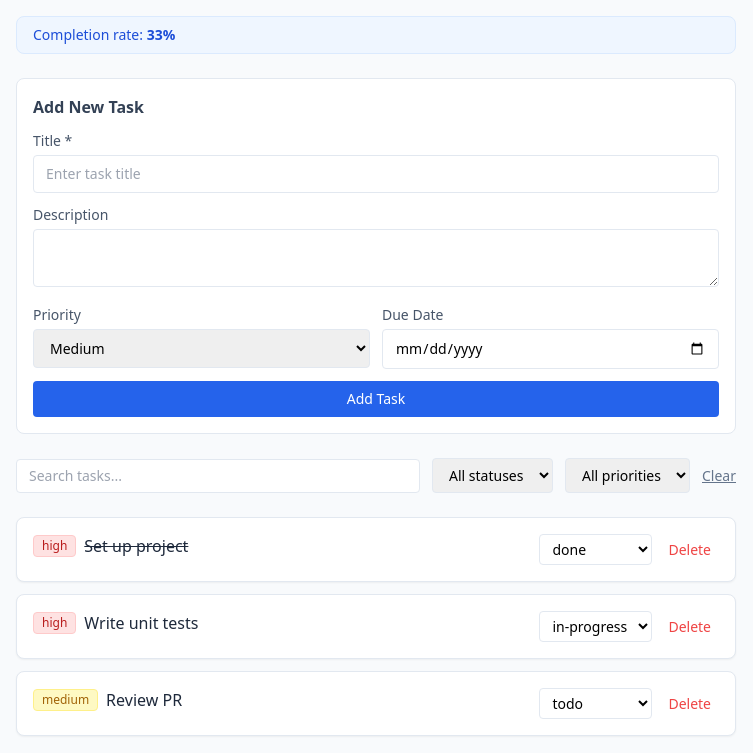
Test: Task management flow › removes a task from the list after deletion
This screenshot has width=753, height=753.
(page scrolled)
Expected: the heading "Review PR" is shown, x1=106 y1=688 x2=182 y2=712
What coordinates should you click on to do the following:
click the button with aria-label "delete task: review pr"
I would click on:
 (690, 704)
Its box is x1=660 y1=690 x2=719 y2=718.
(page scrolled)
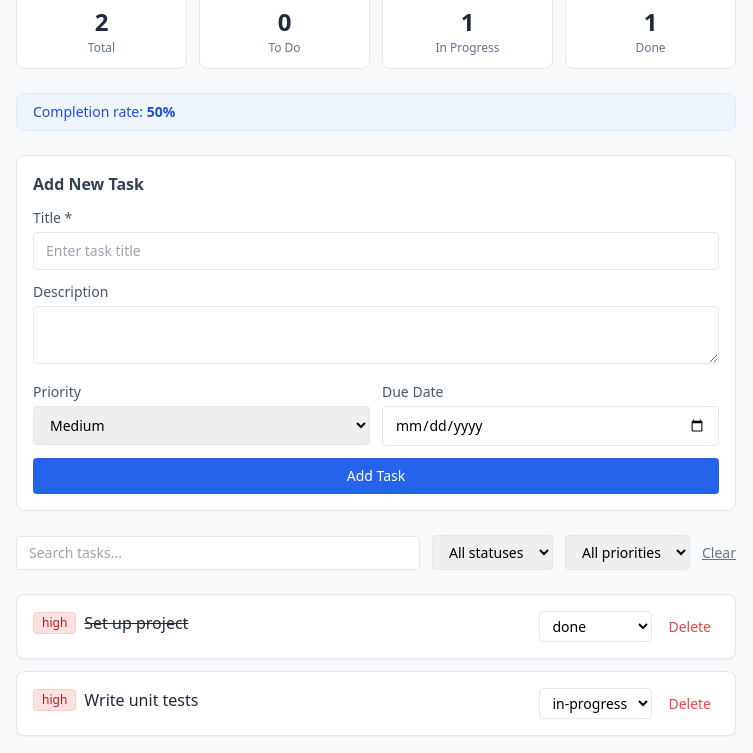
Now the heading "Review PR" is gone
